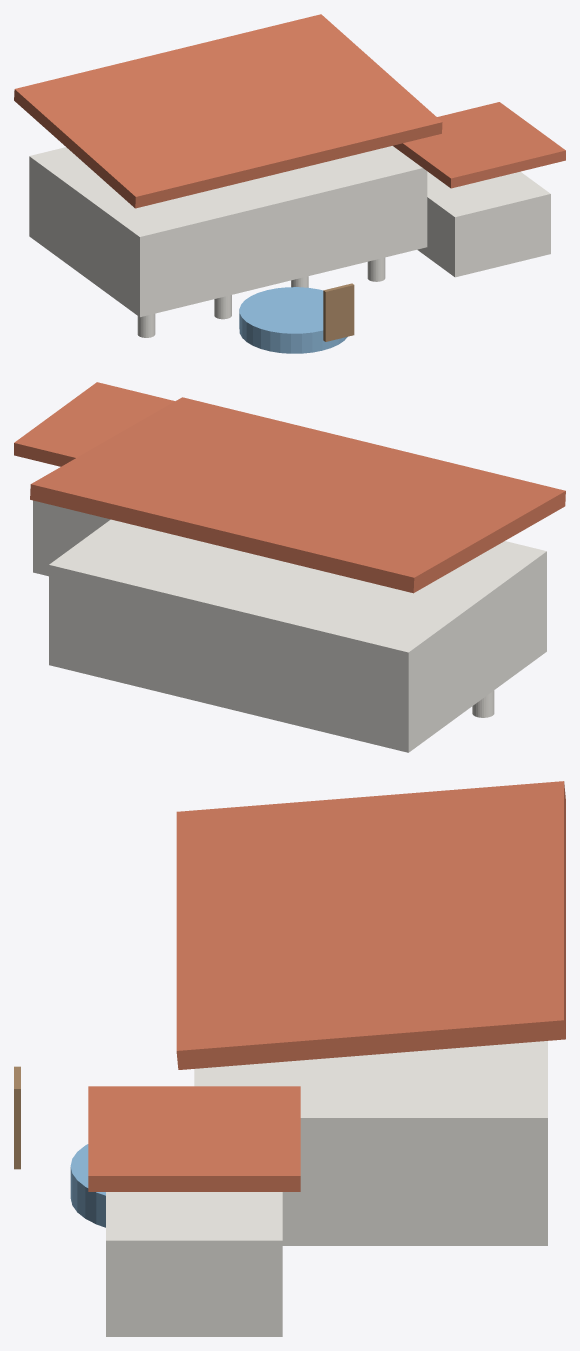
Rendered from roman_villa.glb.
3 views of the same model, one above another, from view 1: azimuth 30°, elevation 25°; view 2: azimuth 150°, elevation 25°; view 3: azimuth 270°, elevation 25° (orthographic). The views are drawn at different scales.
Parts seen in each view (by area): view 1: Cube.002, Cube, Cube.001, Cube.003, Cylinder, Cube.004, Cylinder.004, Cylinder.002, Cylinder.001; view 2: Cube, Cube.002, Cube.003, Cube.001, Cylinder.001; view 3: Cube.002, Cube, Cube.001, Cube.003, Cylinder, Cube.004.
Part boxes in pixels (box(x1,y1,x2,y2)): Cube.002: box(14, 14, 442, 208); Cube: box(29, 146, 427, 317); Cube.001: box(417, 171, 550, 277); Cube.003: box(393, 102, 565, 188); Cylinder: box(239, 287, 347, 353); Cube.004: box(323, 283, 354, 341); Cylinder.004: box(367, 154, 385, 281); Cylinder.002: box(214, 191, 231, 319); Cylinder.001: box(137, 210, 155, 337); Cube: box(49, 519, 546, 752); Cube.002: box(30, 397, 565, 593); Cube.003: box(14, 382, 174, 466); Cube.001: box(33, 500, 110, 576); Cylinder.001: box(472, 558, 494, 717); Cube.002: box(176, 781, 565, 1069); Cube: box(194, 1041, 547, 1245); Cube.001: box(106, 1192, 282, 1336); Cube.003: box(88, 1086, 300, 1191); Cylinder: box(70, 1144, 105, 1227); Cube.004: box(14, 1066, 20, 1169).
Size of the model in its own units: 2.1 by 0.9278 by 1.56.
